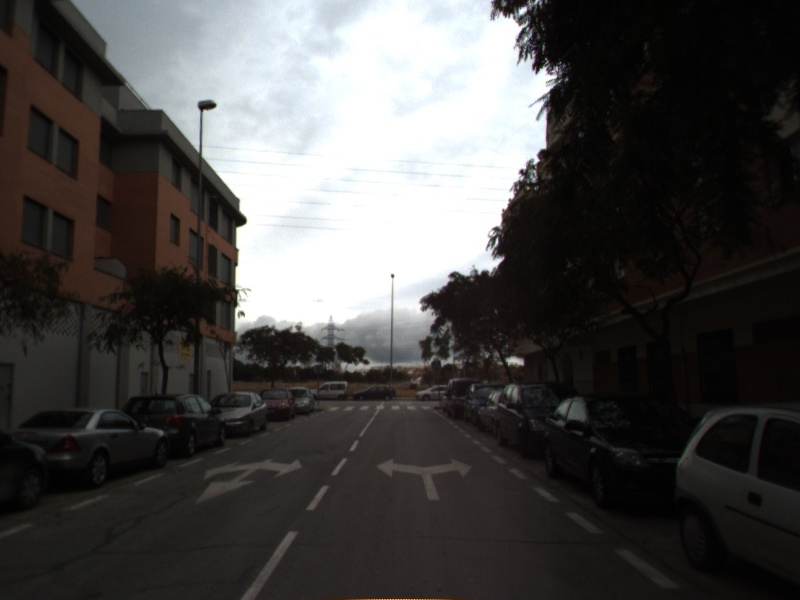LEFT_RIGHT: (374, 456, 475, 502)
